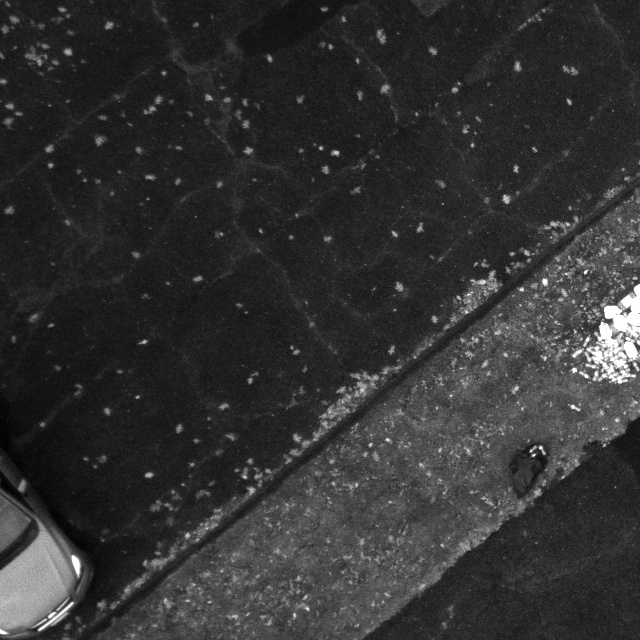bottle: (571, 347, 585, 359), (586, 346, 600, 358), (582, 333, 593, 348), (583, 349, 594, 363), (567, 402, 582, 412), (584, 362, 600, 371), (578, 370, 591, 379), (538, 443, 547, 456), (527, 444, 537, 455), (528, 451, 539, 459)
